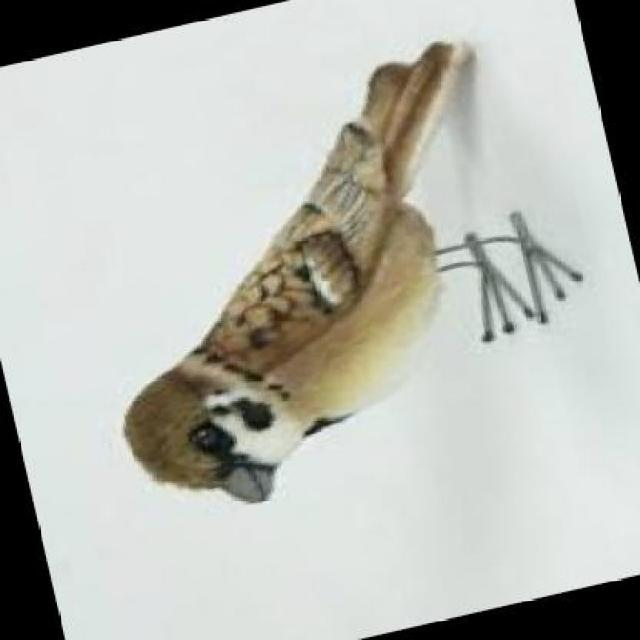Bird: (119, 38, 588, 512)
